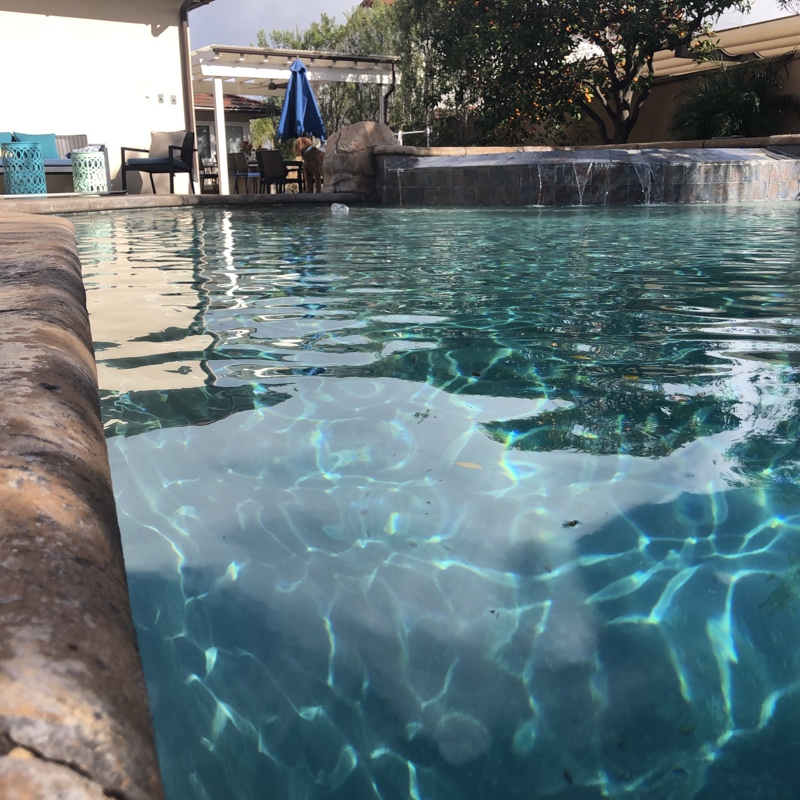Plastic Bottle: (328, 200, 349, 217)
